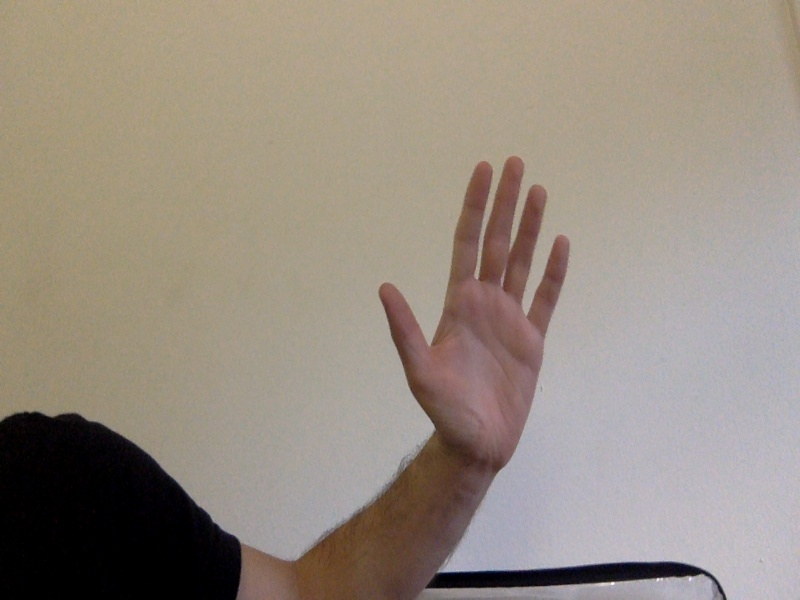5-hand: (383, 159, 572, 462)
